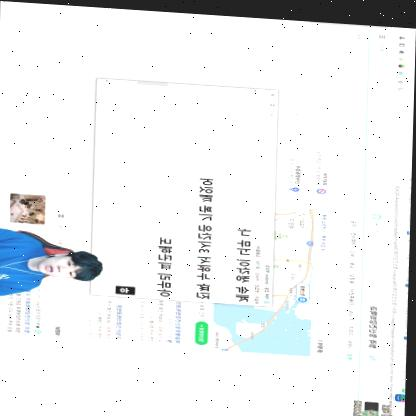streamer: (0, 227, 108, 305)
